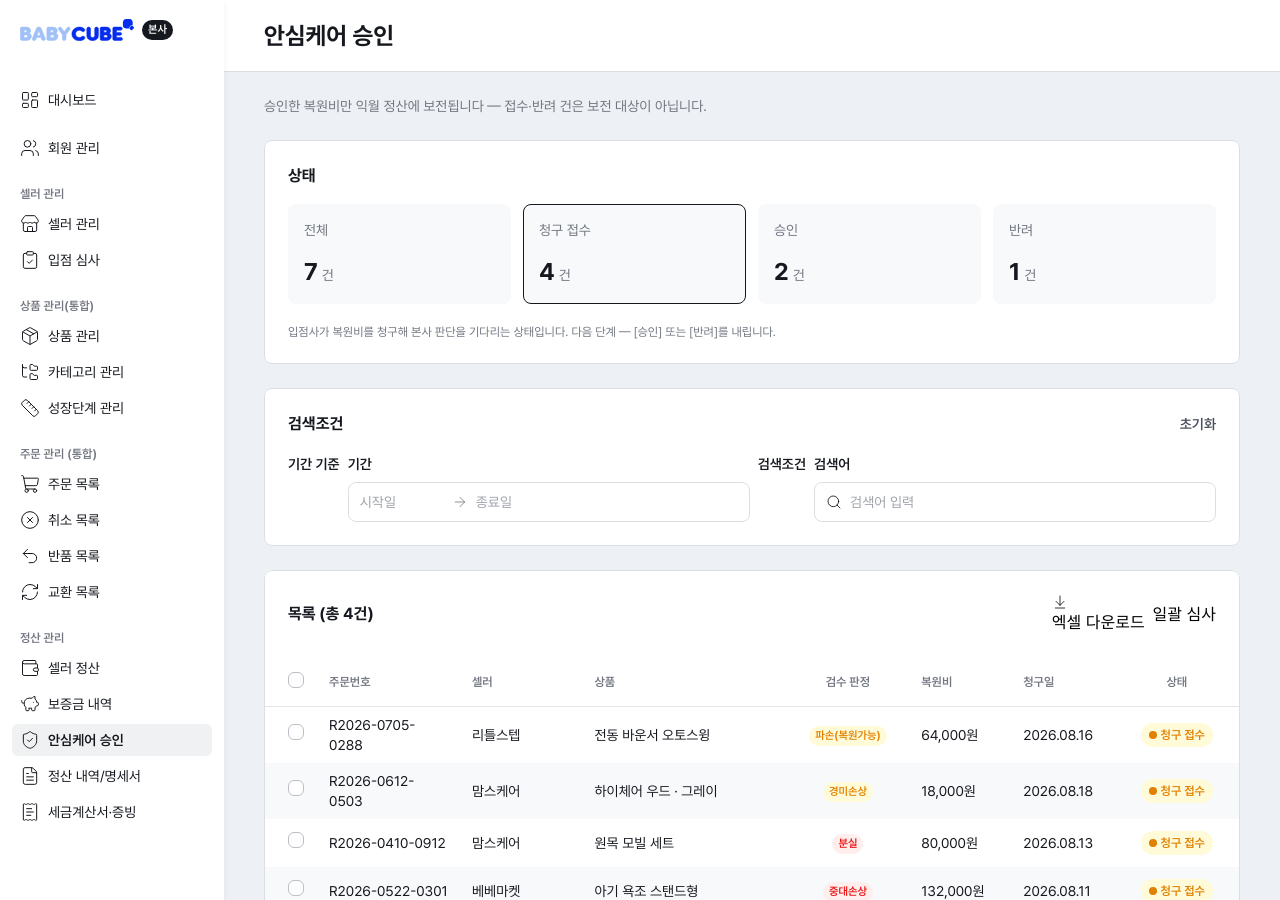
Test: CareClaimListPage (BabyCube S14 안심케어 승인) › 상태 대시 (원본 `chip.dash: !0`) › 카드가 곧 필터다 — 누르면 그 상태만 남는다
Click the button "반려 1 건".
click(1104, 254)  # box [993,204,1216,304]
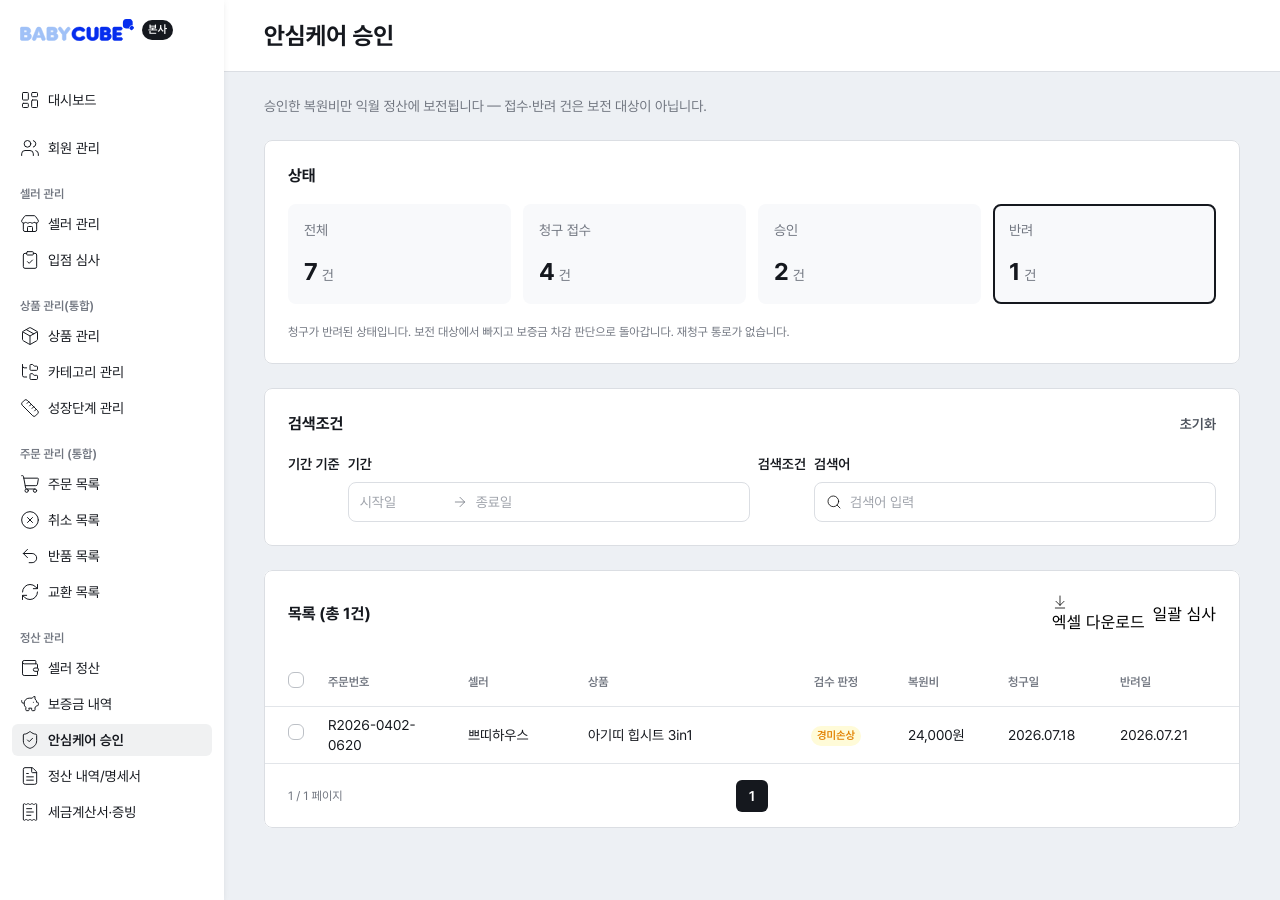
Result: the heading "목록 (총 1건)" is shown at [288,602,371,626]
